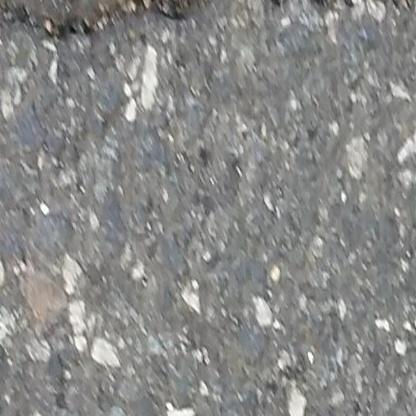Cracks: (0, 0, 416, 54)
